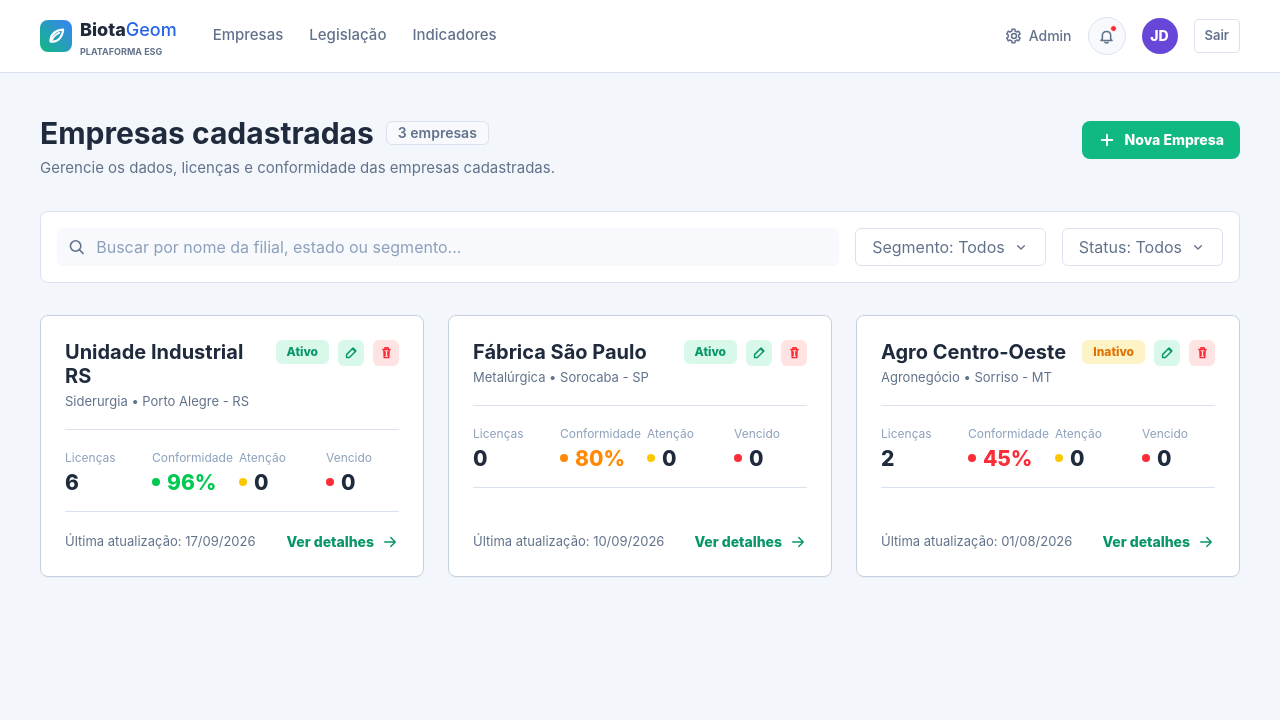
Test: AdminCompaniesPage › shows an error when editable company details cannot be loaded
Click the button named "Editar Unidade Industrial RS" at (351, 353), box [338,340,364,366]
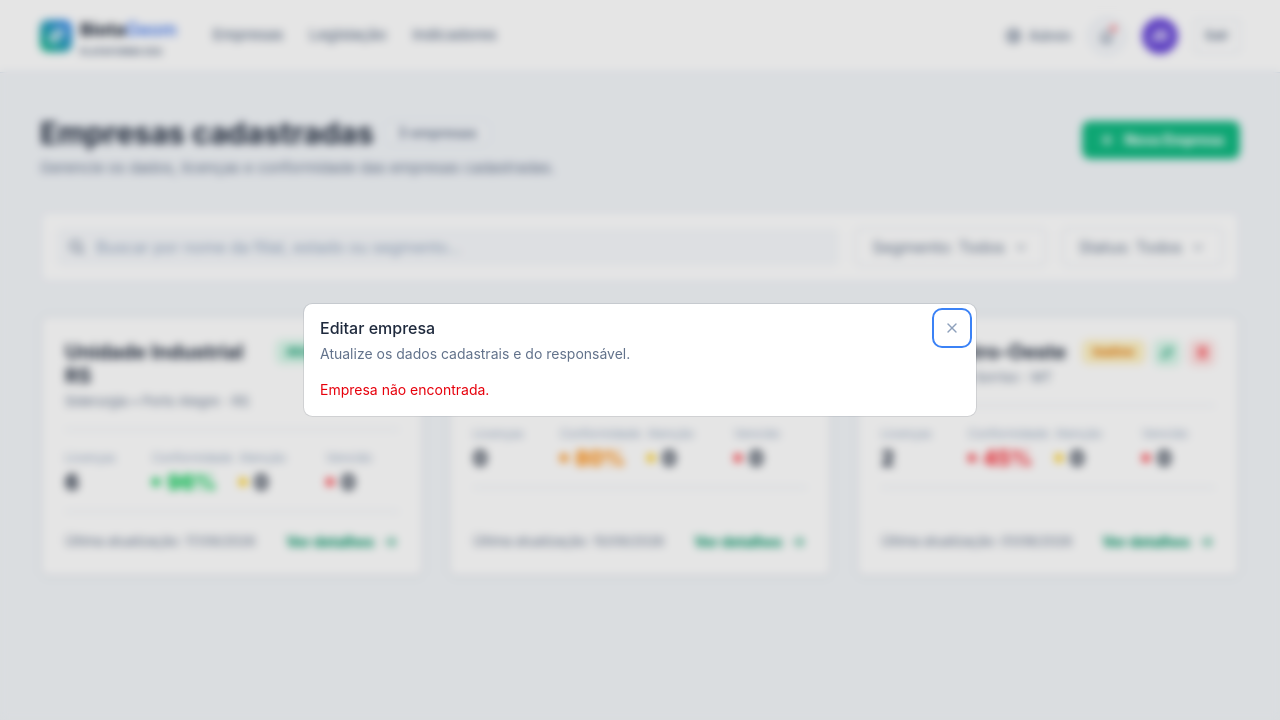
Now the message reads "Empresa não encontrada.", box [320,381,489,398]
